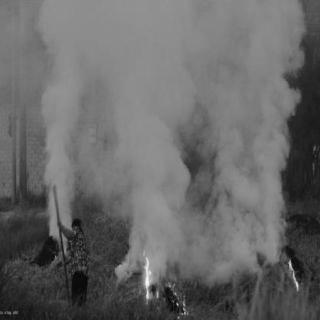Fire: (162, 280, 190, 318), (138, 250, 156, 302), (286, 255, 302, 297), (54, 252, 59, 260)
Smoke: (210, 10, 298, 259), (117, 11, 193, 253), (43, 6, 100, 232)
